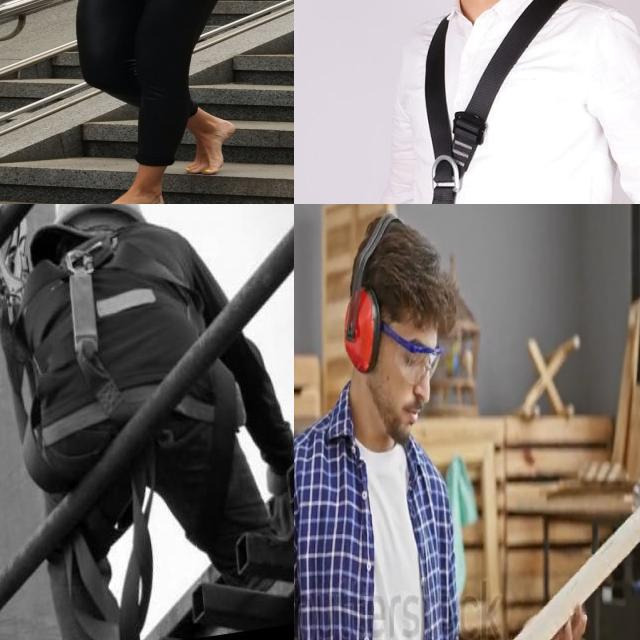Barefoots: (186, 119, 236, 175), (81, 192, 164, 204)
Ear-protection: (341, 279, 381, 400)
Harness: (400, 0, 531, 204), (40, 245, 158, 446)
glasses: (387, 318, 445, 398)
person: (294, 204, 465, 640)
